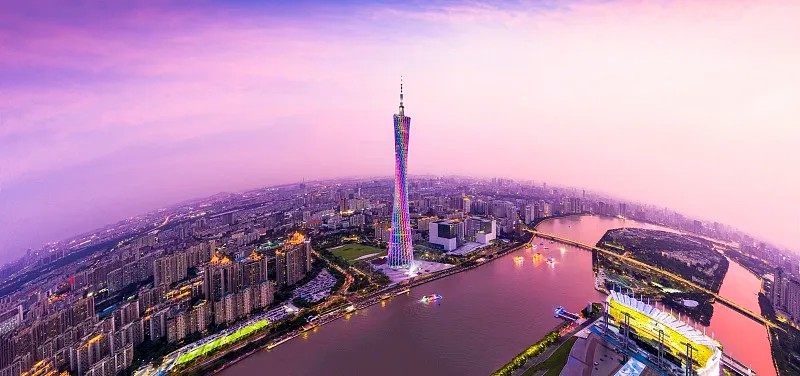Canton: (385, 74, 414, 269)
